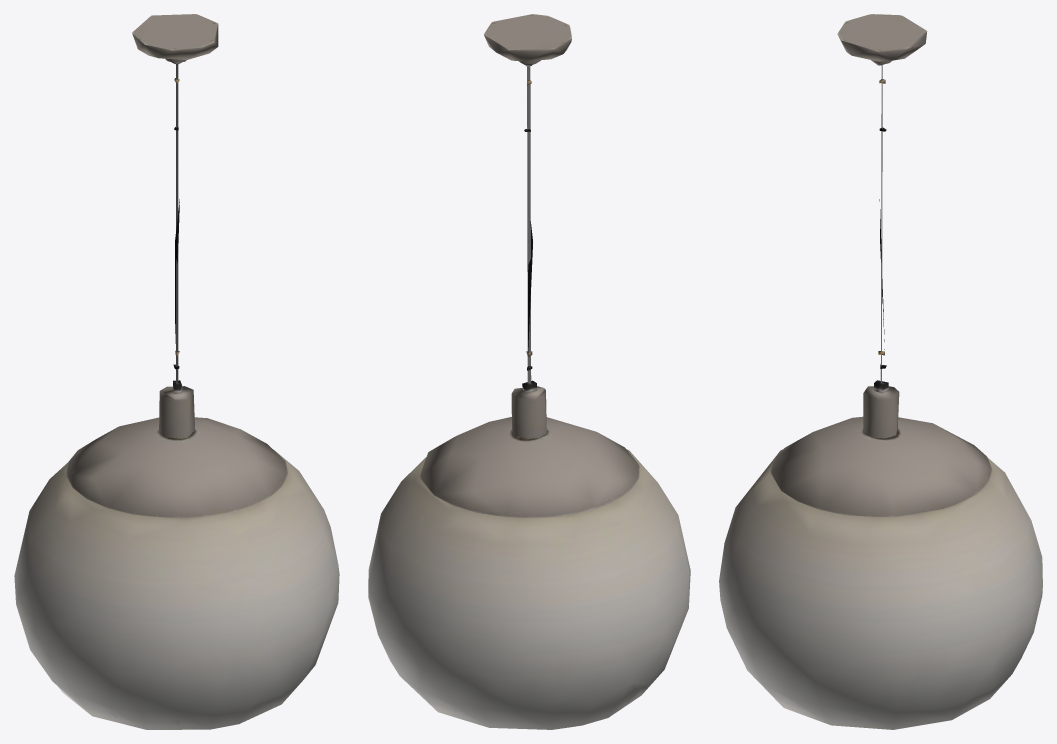
Rendered from modern_ceiling_lamp_01.glb.
3 views of the same model, side by side, from view 1: azimuth 30°, elevation 25°; view 2: azimuth 150°, elevation 25°; view 3: azimuth 270°, elevation 25° (orthographic).
Parts seen in each view (by area): view 1: modern_ceiling_lamp_01; view 2: modern_ceiling_lamp_01; view 3: modern_ceiling_lamp_01.
Part boxes in pixels (bbox=[...]): modern_ceiling_lamp_01: bbox=[14, 14, 339, 729]; modern_ceiling_lamp_01: bbox=[368, 14, 690, 729]; modern_ceiling_lamp_01: bbox=[719, 14, 1042, 729].
Size of the model in its own units: 0.4306 by 0.9512 by 0.4306.
2 materials, 2 textured.
